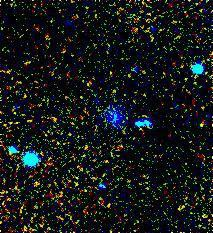star: (188, 110, 213, 140)
